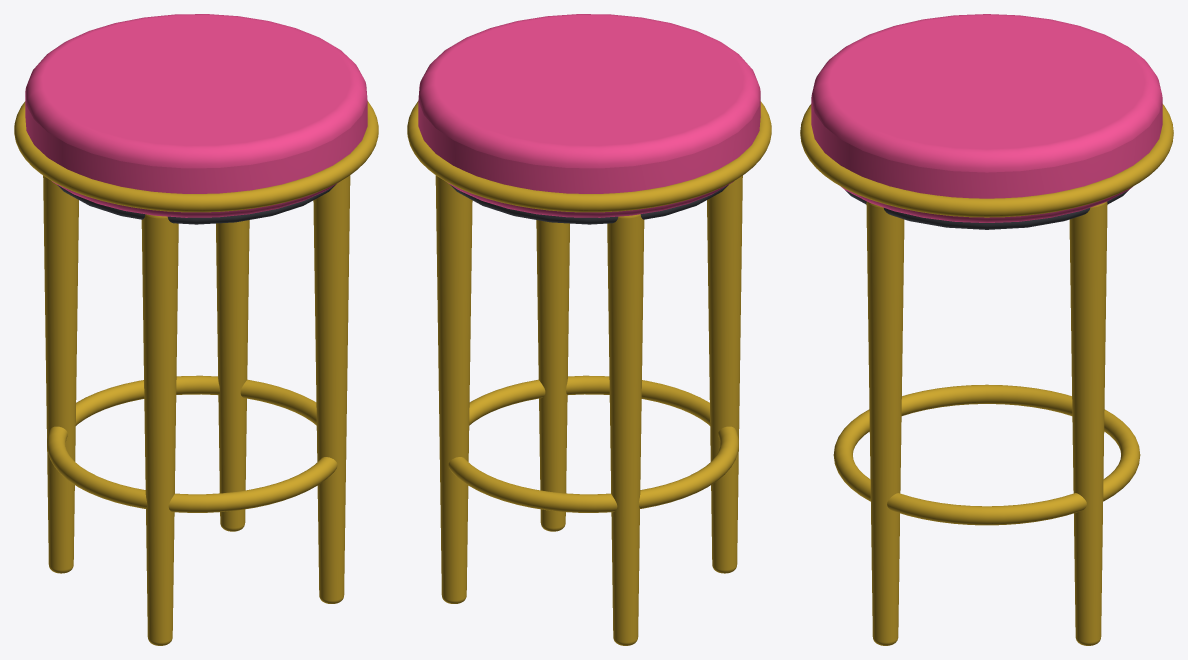
The model's file is reception-stool.glb.
3 views of the same model, side by side, from view 1: azimuth 30°, elevation 25°; view 2: azimuth 150°, elevation 25°; view 3: azimuth 270°, elevation 25° (orthographic). The views are drawn at different scales.
Visible parts, largest first — view 1: seat.cushion, leg.1, leg.0, leg.3, stretcher.ring, leg.2, seat.band, seat.disc; view 2: seat.cushion, leg.3, leg.2, leg.1, stretcher.ring, leg.0, seat.band, seat.disc; view 3: seat.cushion, leg.0, leg.2, stretcher.ring, seat.band, seat.disc.
Part boxes in pixels (left/top/right/bottom): seat.cushion: left=25, top=14, right=367, bottom=217; leg.1: left=141, top=214, right=178, bottom=645; leg.0: left=313, top=175, right=350, bottom=603; leg.3: left=43, top=175, right=78, bottom=573; stretcher.ring: left=47, top=375, right=337, bottom=512; leg.2: left=216, top=220, right=249, bottom=531; seat.band: left=14, top=101, right=378, bottom=212; seat.disc: left=57, top=184, right=336, bottom=224; seat.cushion: left=418, top=14, right=760, bottom=217; leg.3: left=607, top=214, right=644, bottom=645; leg.2: left=435, top=175, right=472, bottom=603; leg.1: left=707, top=175, right=742, bottom=573; stretcher.ring: left=448, top=375, right=738, bottom=512; leg.0: left=536, top=220, right=569, bottom=531; seat.band: left=407, top=101, right=771, bottom=212; seat.disc: left=449, top=184, right=728, bottom=224; seat.cushion: left=811, top=14, right=1162, bottom=222; leg.0: left=866, top=201, right=904, bottom=645; leg.2: left=1069, top=201, right=1107, bottom=645; stretcher.ring: left=833, top=384, right=1140, bottom=525; seat.band: left=800, top=104, right=1173, bottom=217; seat.disc: left=845, top=190, right=1128, bottom=229.
Bounding box in the file's own units: 0.468 × 0.715 × 0.468.
